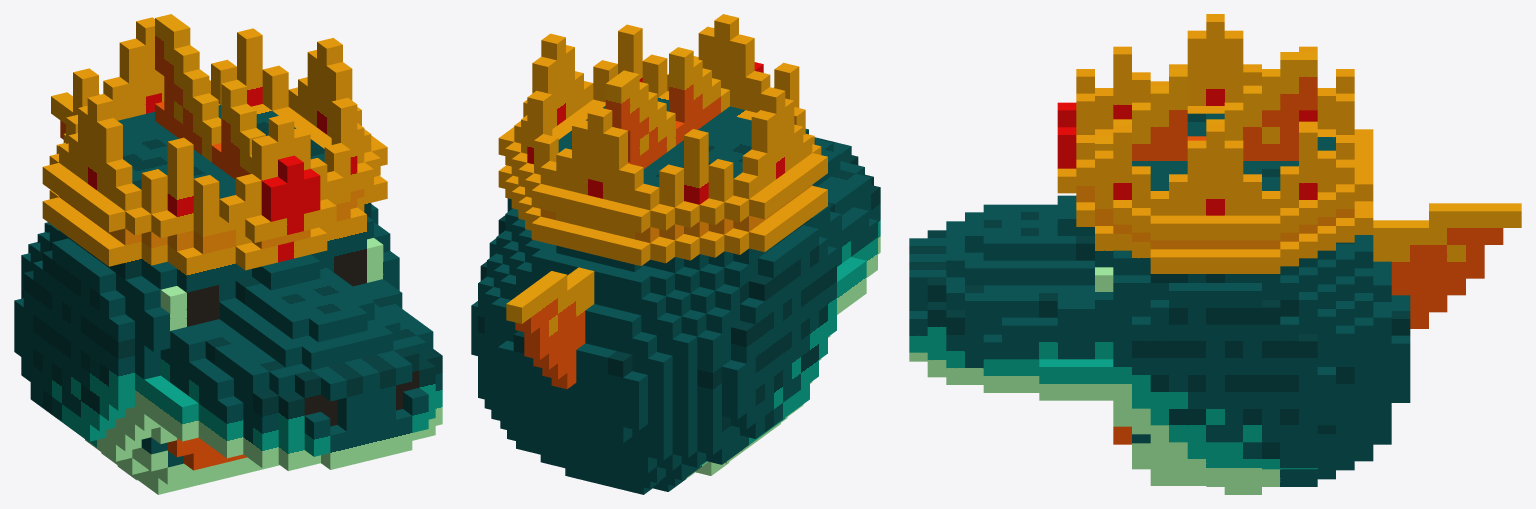
Rendered from king crown_eye patch.gltf.
3 renders of one model, left to right at view 1: azimuth 30°, elevation 25°; view 2: azimuth 150°, elevation 25°; view 3: azimuth 270°, elevation 25°, orthographic. The views are drawn at different scales.
Parts seen in each view (by area): view 1: C33_H_KingCrown_Skydiving_EyePatch-Mesh; view 2: C33_H_KingCrown_Skydiving_EyePatch-Mesh; view 3: C33_H_KingCrown_Skydiving_EyePatch-Mesh.
Boxes of the visible parts, x1,y1,x2,y2 form: C33_H_KingCrown_Skydiving_EyePatch-Mesh: [14, 14, 442, 494]; C33_H_KingCrown_Skydiving_EyePatch-Mesh: [471, 14, 880, 494]; C33_H_KingCrown_Skydiving_EyePatch-Mesh: [909, 14, 1521, 494].
Bounding box in the file's own units: 17 × 24 × 33.
1 material, 1 textured.
